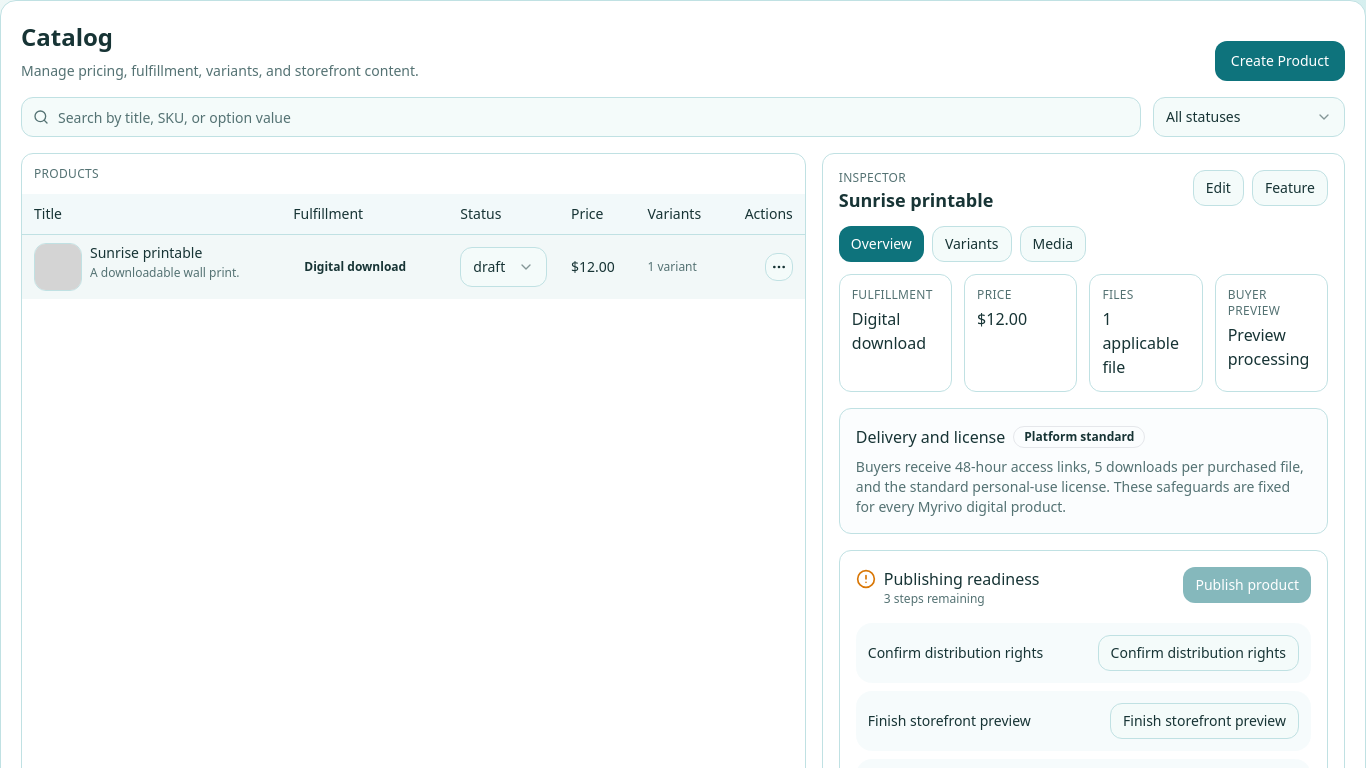
Test case: ProductManager digital catalog integration › explains on the image field that buyers only ever see a watermarked version
Click the button "Edit" at (1218, 188), box [1193,170,1244,206]
(page scrolled)
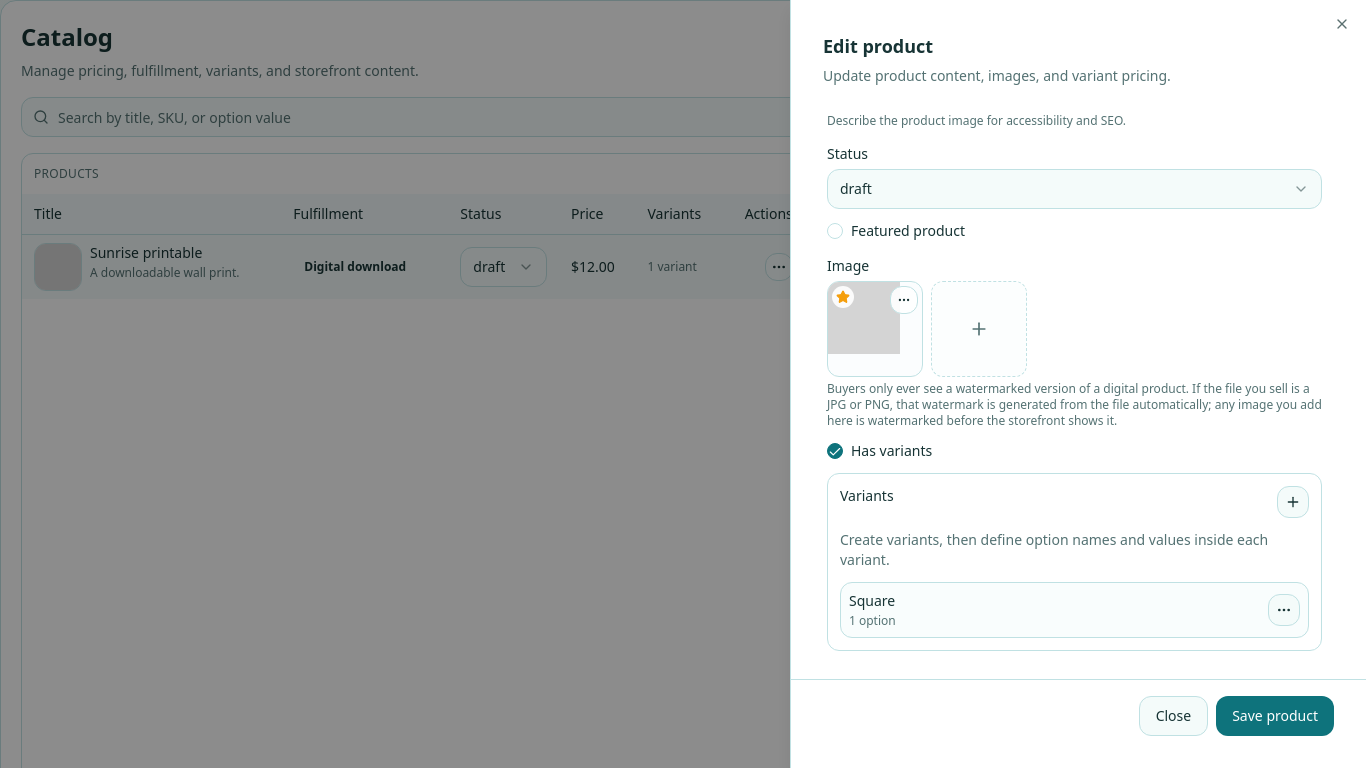
Expected: the text "Buyers only ever see a watermarked version" shows "generated from the file automatically", [827,380,1322,429]
Expected: the text "Buyers only ever see a watermarked version" shows "watermarked before the storefront shows it", [827,380,1322,429]
